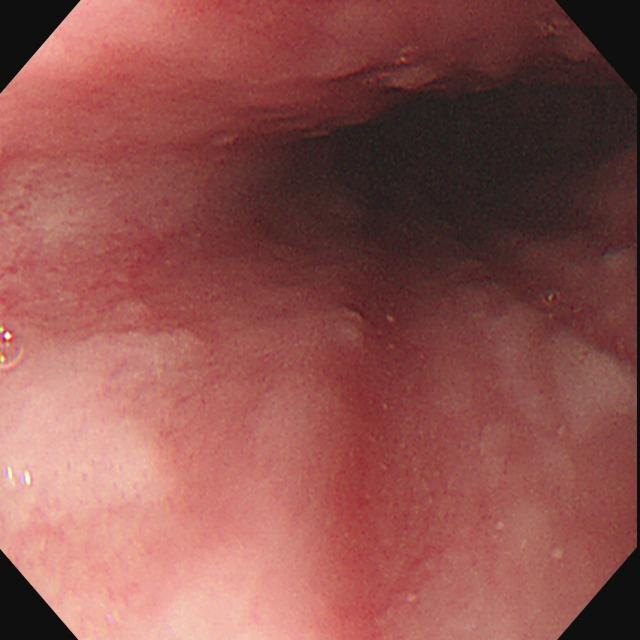A: (232, 32, 519, 104)
E: (318, 56, 577, 208)
J: (2, 317, 220, 531), (436, 247, 640, 455)
T: (2, 313, 30, 373)
